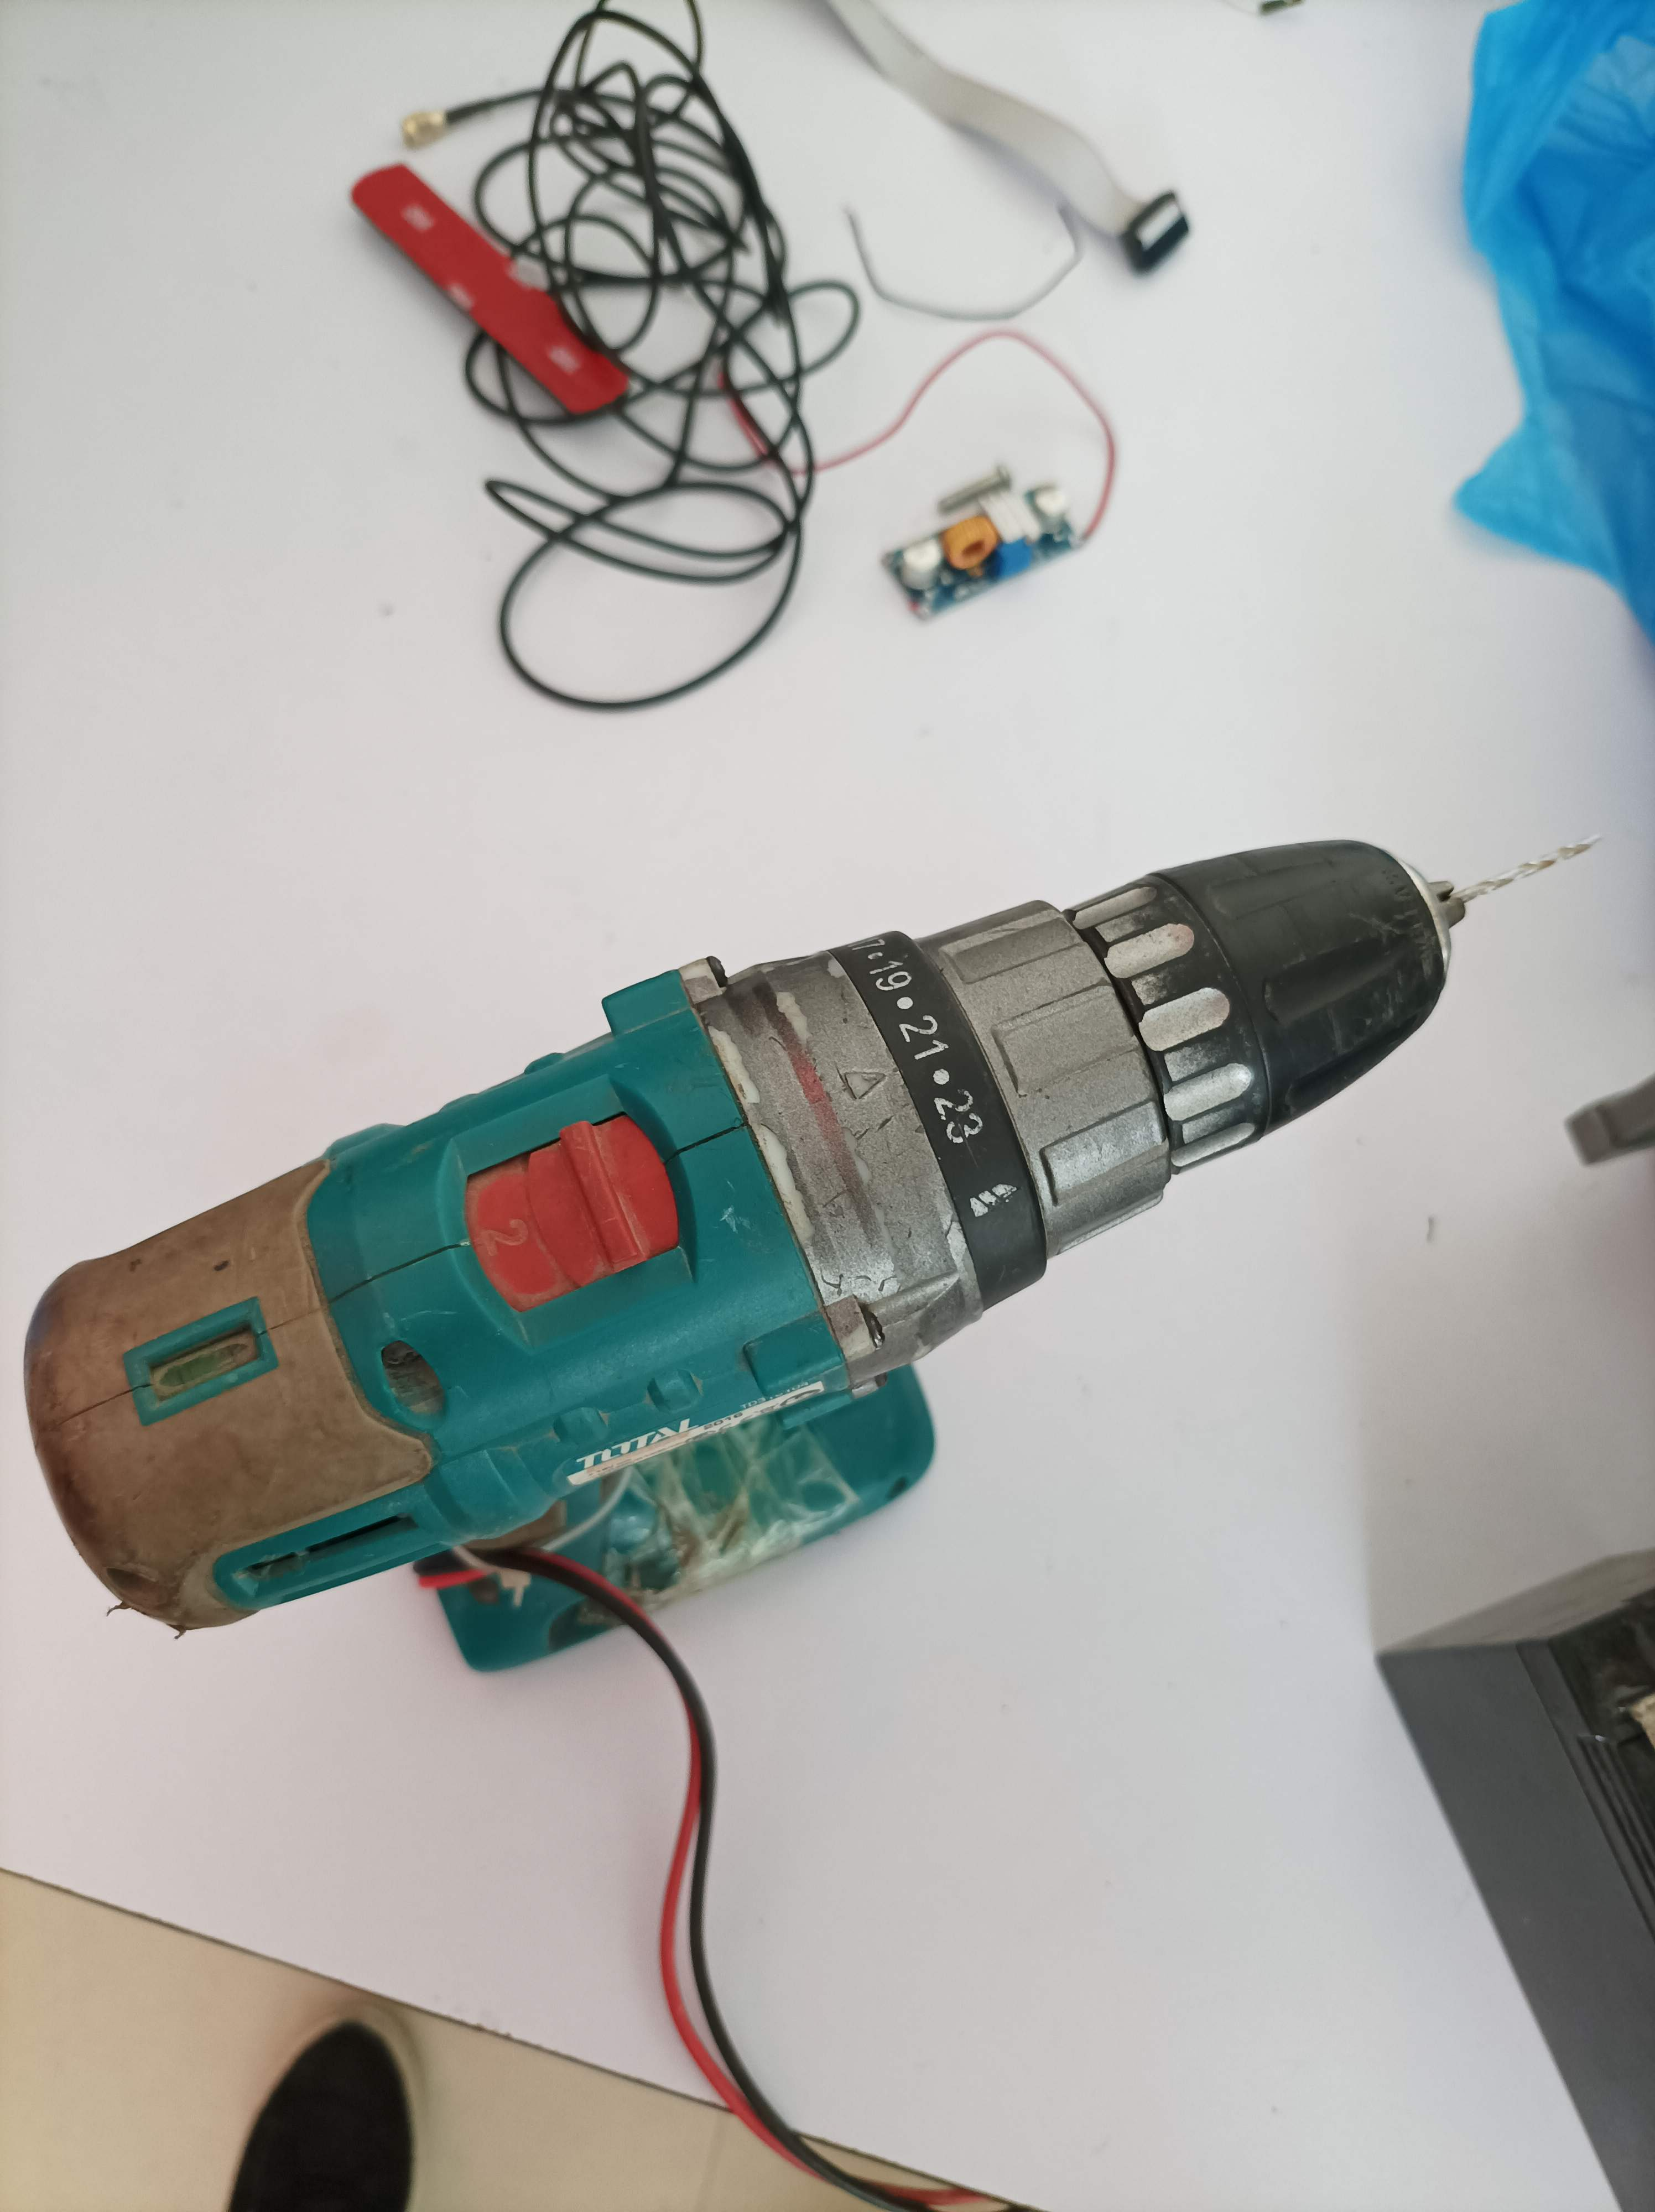driller: (12, 820, 1615, 1670)
